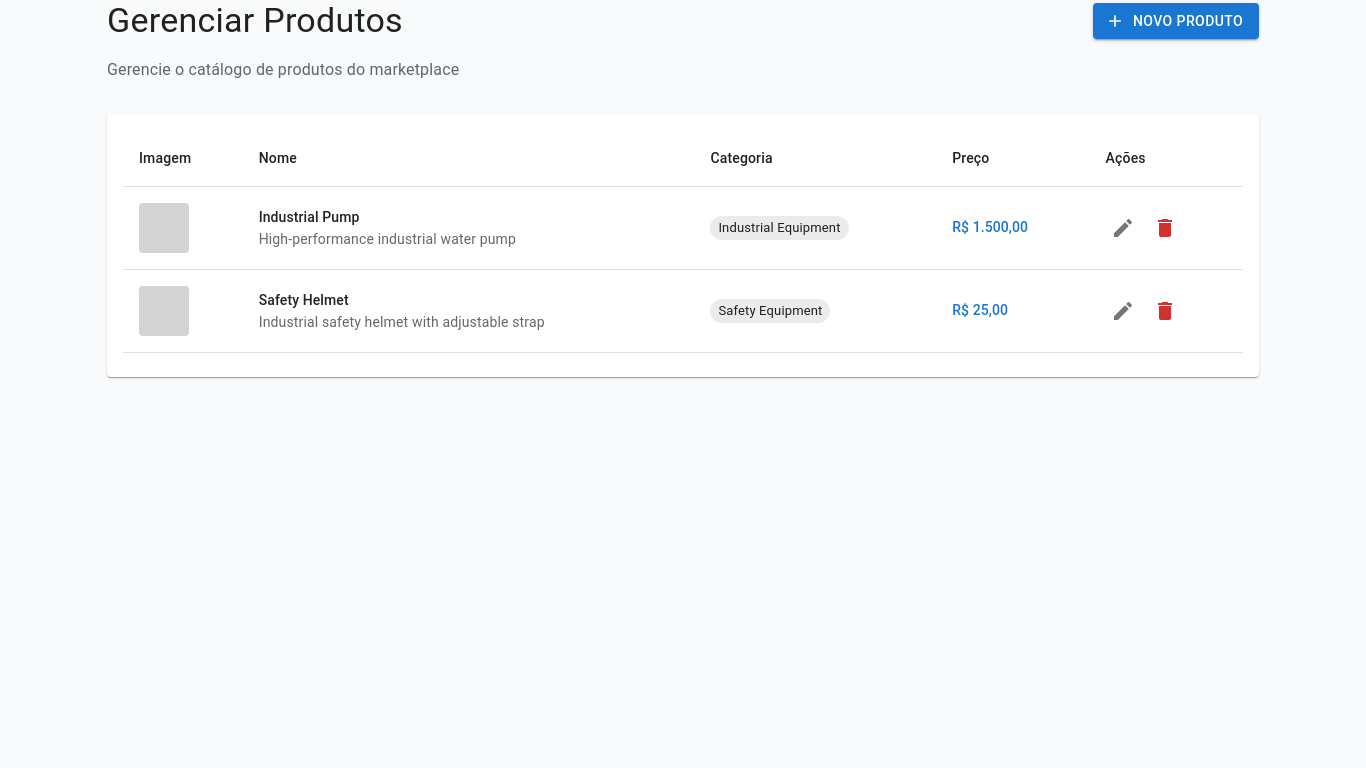
Test: AdminProductsPage › Product Editing › should open edit product dialog when clicking edit button
expect the heading "Industrial Pump" is shown: met, box [259,209,360,225]
What coordinates should you click on to do the following:
click the button titled "Editar" in the row of "Industrial Pump"
I would click on:
 (1123, 228)
Its box is [1106,211,1140,245].
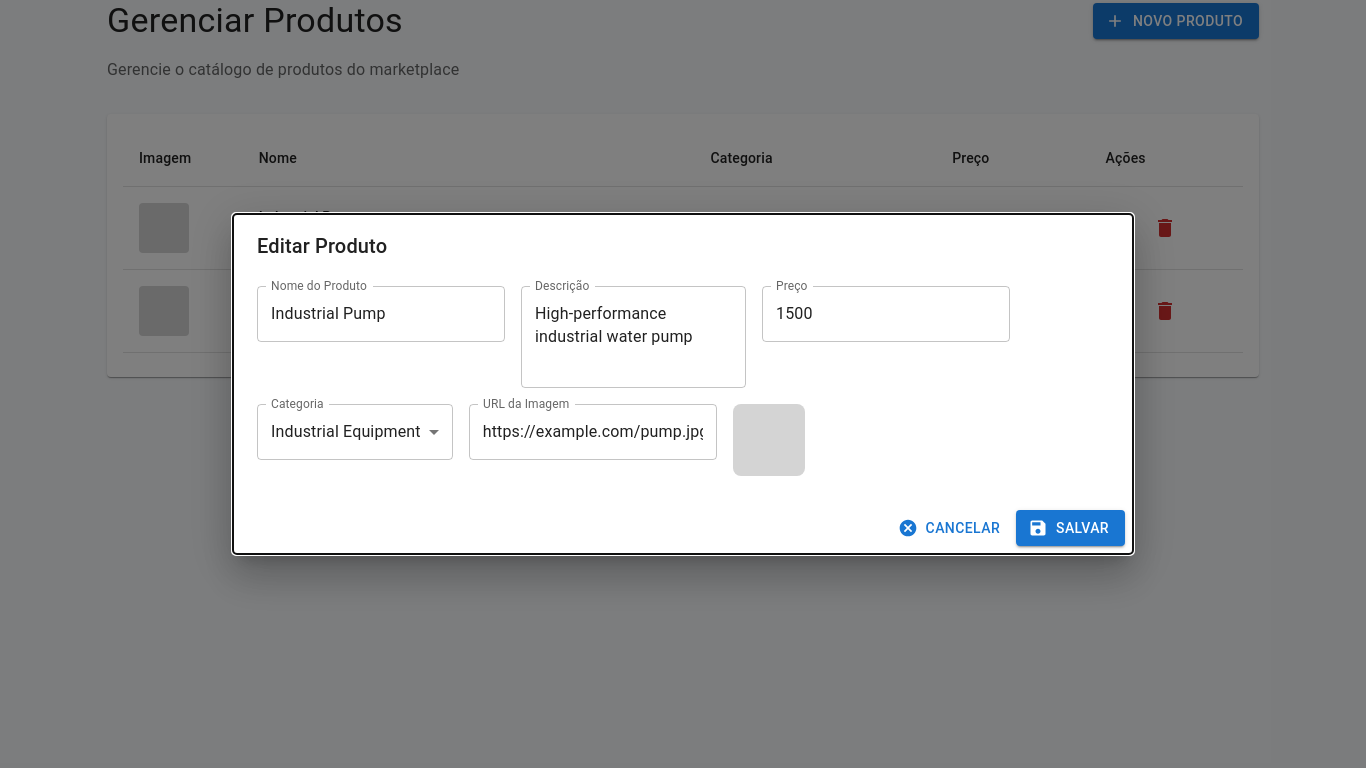
expect the heading "Editar Produto" is shown: met, box [257,234,387,258]
expect the field showing "Industrial Pump" is shown: met, box [257,286,505,342]
expect the text box showing "High-performance industrial water pump" is shown: met, box [535,302,732,371]
